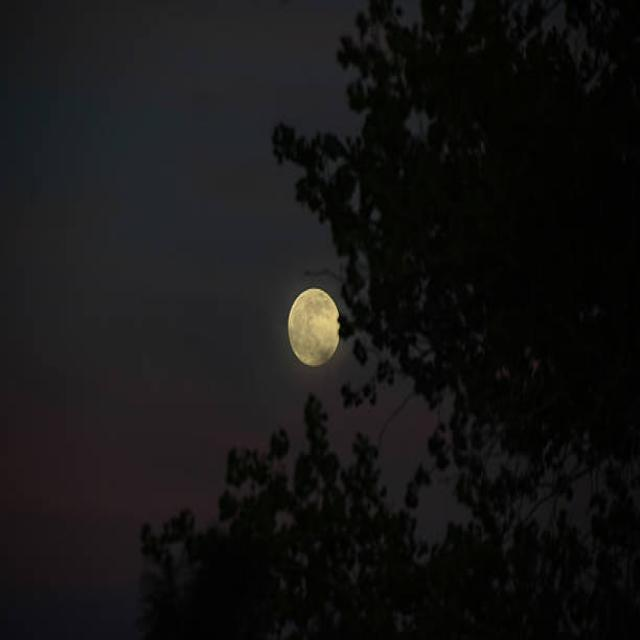moon: (286, 276, 345, 374)
